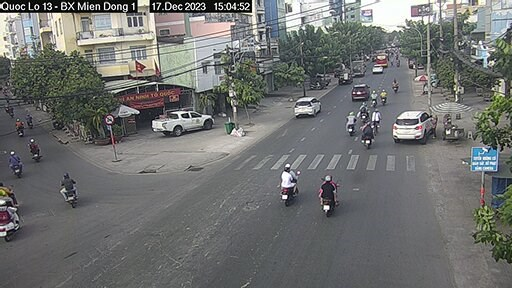car: (153, 108, 213, 137), (394, 102, 432, 138), (291, 96, 314, 118), (349, 83, 366, 102)
motorbike: (272, 159, 305, 209), (51, 170, 80, 213), (312, 175, 336, 211)
